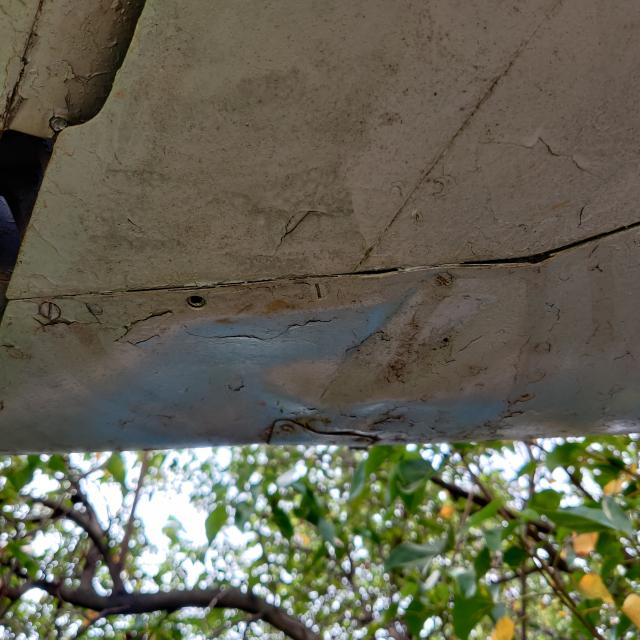dent: (254, 261, 516, 461)
missing-head: (175, 276, 220, 321)
